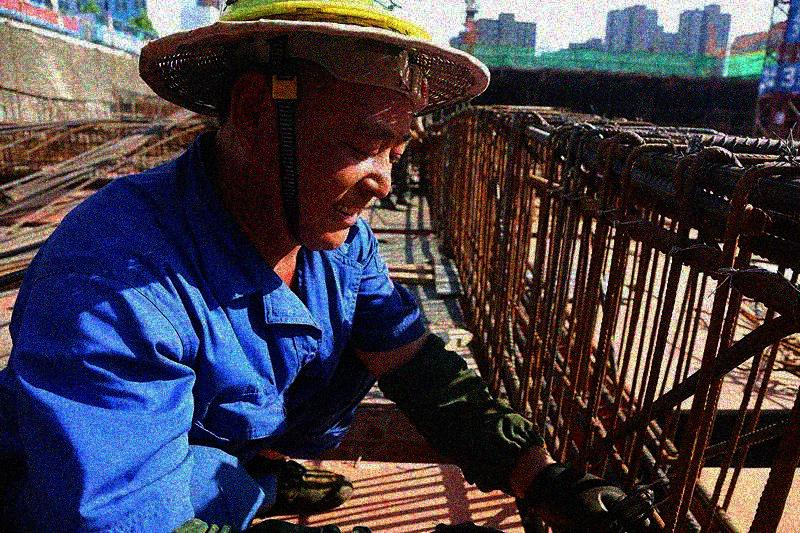helmet: (213, 1, 441, 251)
